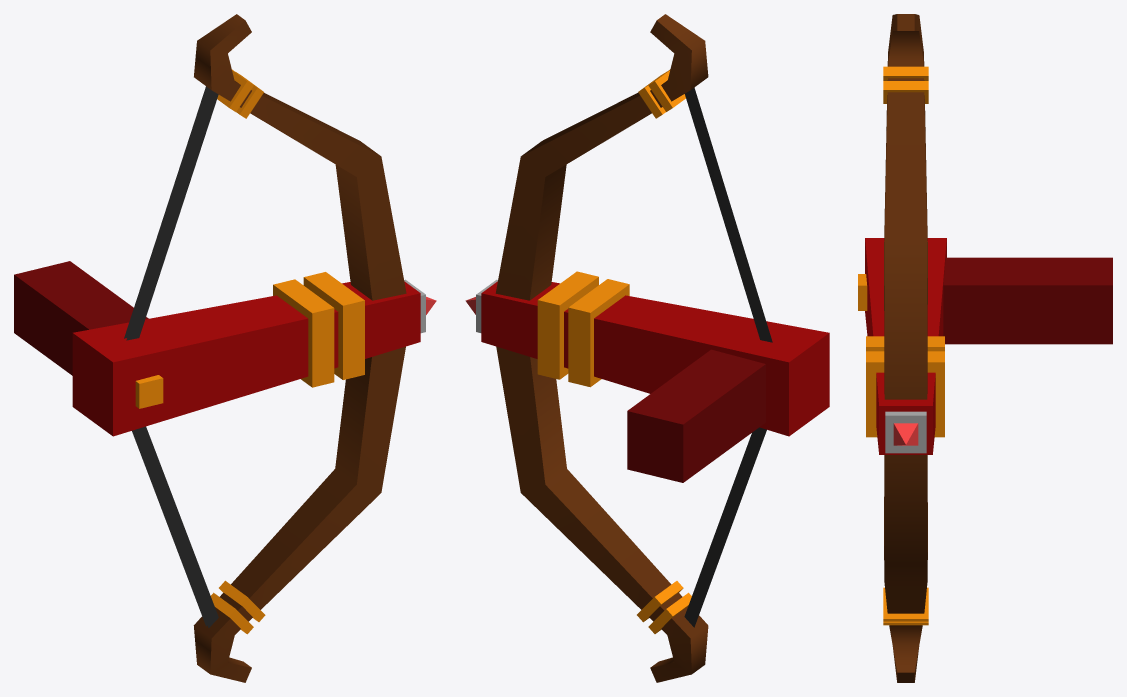
File: Crossbow 02.FBX
The picture shows the model from 3 angles, left to right: view 1: azimuth 30°, elevation 25°; view 2: azimuth 150°, elevation 25°; view 3: azimuth 270°, elevation 25°; orthographic projection.
Parts seen in each view (by area): view 1: Crossbow 02; view 2: Crossbow 02; view 3: Crossbow 02.
Boxes of the visible parts, left/top/right/bottom form: Crossbow 02: left=14, top=14, right=436, bottom=682; Crossbow 02: left=465, top=14, right=829, bottom=682; Crossbow 02: left=858, top=14, right=1112, bottom=682.
Size of the model in its own units: 29 by 53.37 by 18.42.
